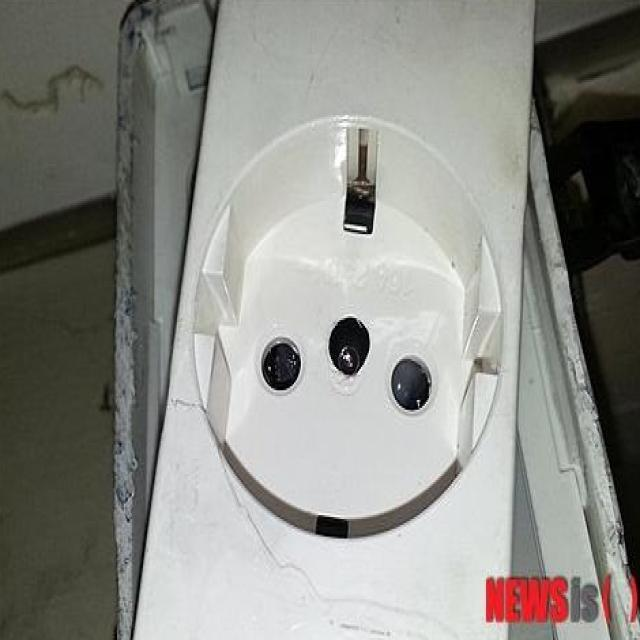hidden camera: (335, 342, 362, 375)
